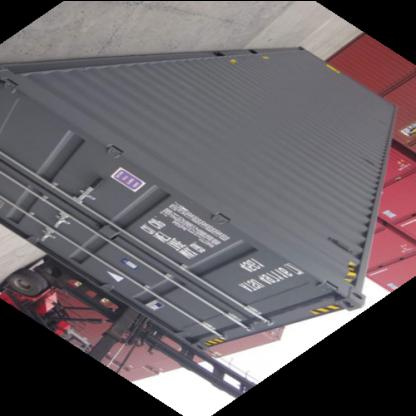Damage: (364, 105, 390, 129), (229, 56, 248, 70)
